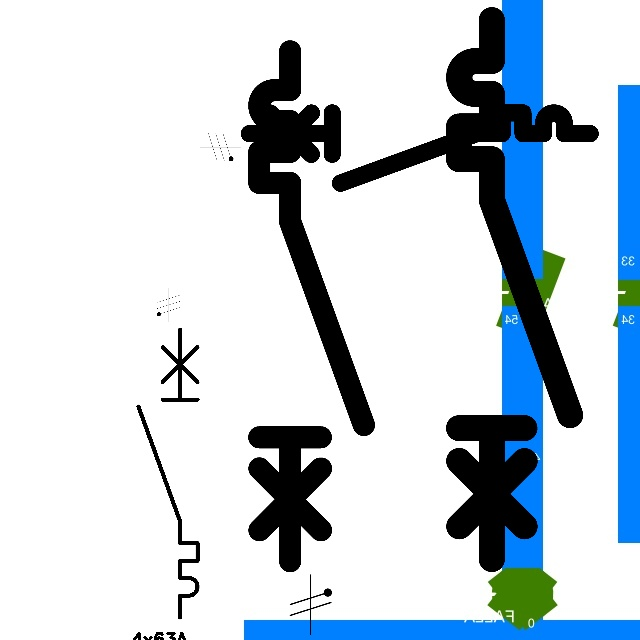interruptor_termomagnetico: (445, 6, 583, 573), (246, 38, 377, 574), (240, 104, 599, 192), (131, 322, 205, 625)
